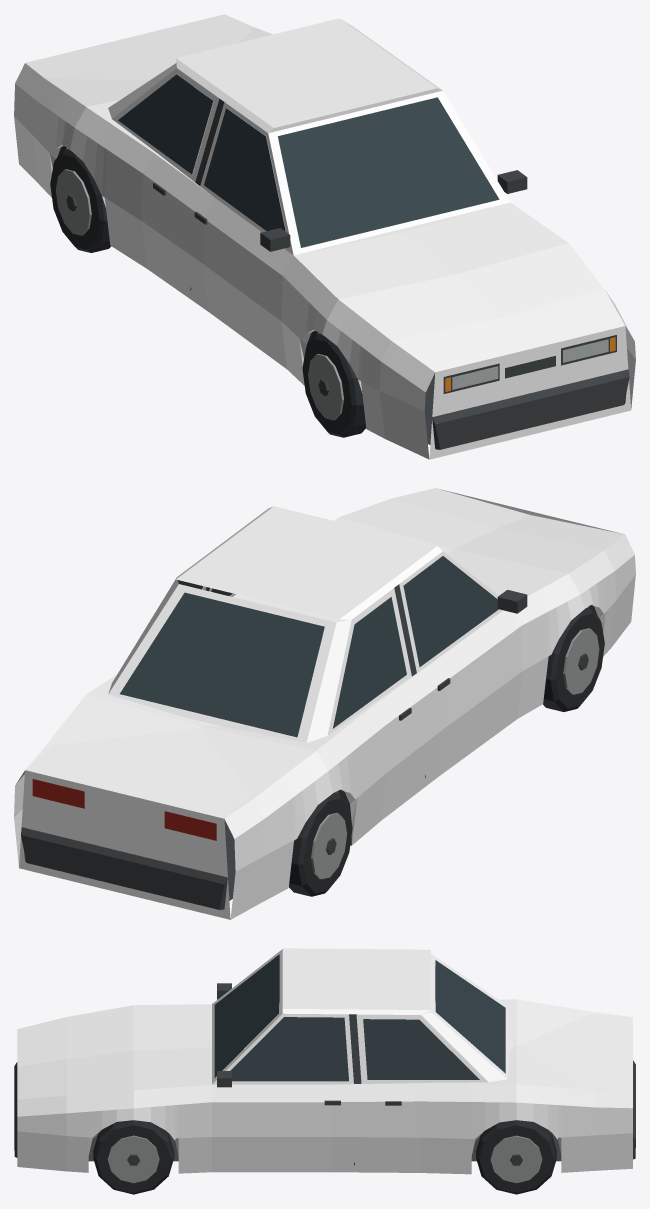
Rendered from calderwood_fletcher.glb.
3 views of the same model, one above another, from view 1: azimuth 30°, elevation 25°; view 2: azimuth 150°, elevation 25°; view 3: azimuth 270°, elevation 25° (orthographic). The views are drawn at different scales.
Parts seen in each view (by area): view 1: calderwood_fletcher; view 2: calderwood_fletcher; view 3: calderwood_fletcher.
Part boxes in pixels (x1,y1,x2,y2): calderwood_fletcher: (14,14,635,459); calderwood_fletcher: (14,488,635,919); calderwood_fletcher: (14,948,635,1194).
Bounding box in the file's own units: 1.84 × 1.5 × 4.97.
Materials: 8 (1 with a texture image).
